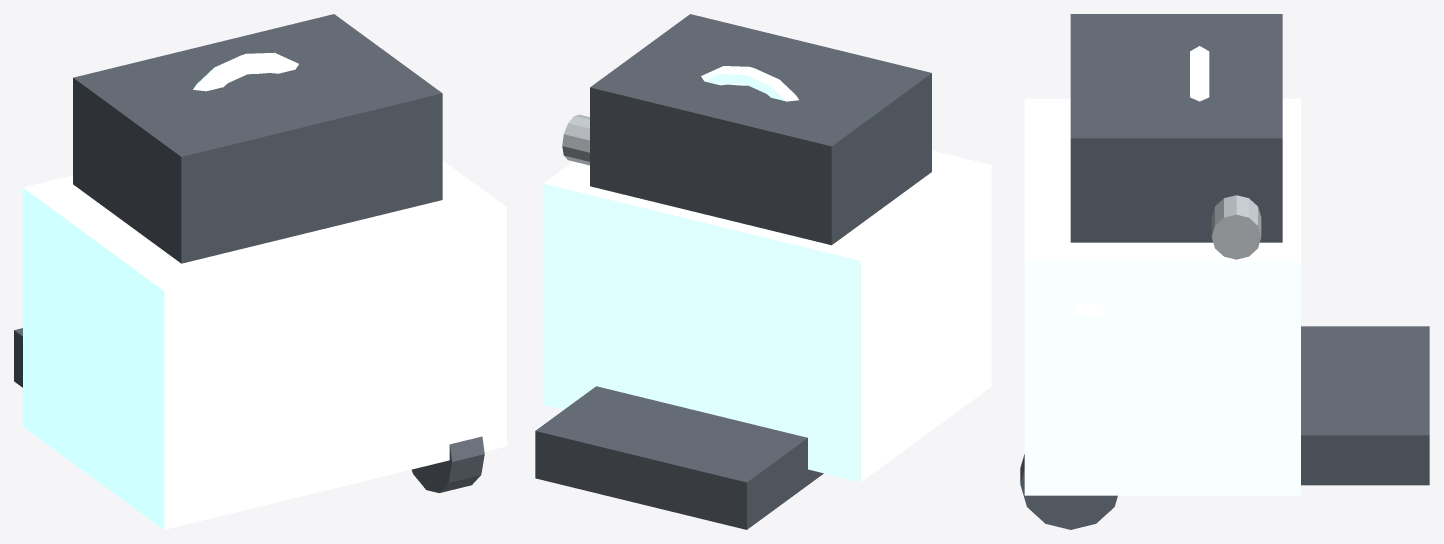
Rendered from trituradora_6.glb.
3 views of the same model, side by side, from view 1: azimuth 30°, elevation 25°; view 2: azimuth 150°, elevation 25°; view 3: azimuth 270°, elevation 25° (orthographic). The views are drawn at different scales.
Visible parts, largest first — view 1: chasis, tolva, rueda, portal; view 2: chasis, tolva, cinta, portal, rodillo; view 3: chasis, tolva, cinta, rodillo, panel, rueda, portal.
Boxes of the visible parts, x1=… form: chasis: x1=23, y1=160, x2=506, y2=529; tolva: x1=73, y1=14, x2=442, y2=263; rueda: x1=411, y1=436, x2=484, y2=492; portal: x1=193, y1=52, x2=298, y2=91; chasis: x1=543, y1=150, x2=991, y2=482; tolva: x1=590, y1=14, x2=931, y2=245; cinta: x1=535, y1=386, x2=823, y2=529; portal: x1=701, y1=66, x2=798, y2=101; rodillo: x1=562, y1=114, x2=589, y2=165; chasis: x1=1024, y1=98, x2=1300, y2=495; tolva: x1=1070, y1=14, x2=1282, y2=242; cinta: x1=1301, y1=326, x2=1429, y2=485; rodillo: x1=1211, y1=195, x2=1261, y2=259; panel: x1=1075, y1=304, x2=1102, y2=398; rueda: x1=1020, y1=454, x2=1117, y2=529; portal: x1=1190, y1=46, x2=1209, y2=101.
Size of the model in its own units: 0.8316 by 0.9 by 0.8224.
